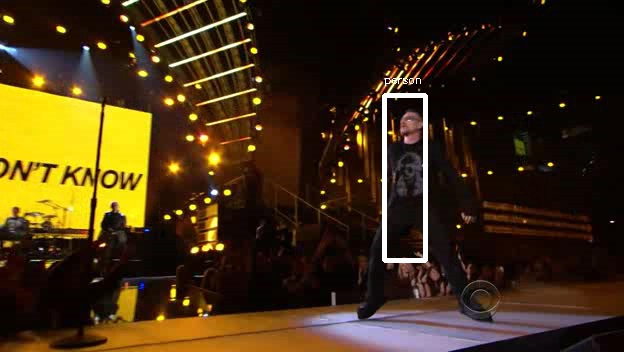person: (379, 111, 448, 235), (376, 111, 445, 235), (382, 111, 451, 235), (379, 108, 448, 232), (379, 114, 448, 238)
target_negative: (119, 218, 451, 301), (51, 19, 224, 129), (126, 154, 195, 278), (23, 317, 387, 338), (221, 278, 343, 287), (138, 345, 188, 349)
